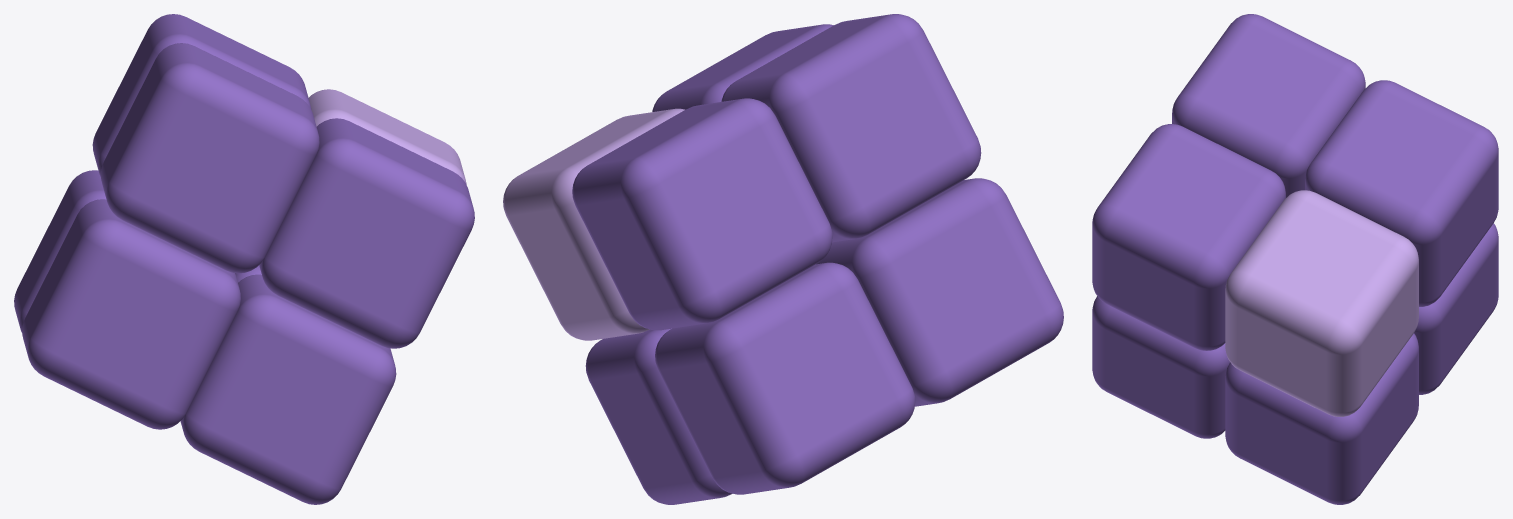
Rendered from Rubiks Cube.gltf.
The picture shows the model from 3 angles, left to right: view 1: azimuth 30°, elevation 25°; view 2: azimuth 150°, elevation 25°; view 3: azimuth 270°, elevation 25°; orthographic projection. The views are drawn at different scales.
Visible parts, largest first — view 1: Cube 5 (×4), Cube 4 (×3); view 2: Cube 4 (×4), Cube 5 (×3); view 3: Cube 4 (×4), Cube 5 (×3).
Boxes of the visible parts, left/top/right/bottom form: Cube 5 (×4): left=22, top=43, right=474, bottom=504; Cube 4 (×3): left=14, top=14, right=466, bottom=332; Cube 4 (×4): left=503, top=98, right=915, bottom=504; Cube 5 (×3): left=652, top=14, right=1063, bottom=406; Cube 4 (×4): left=1225, top=80, right=1498, bottom=504; Cube 5 (×3): left=1092, top=14, right=1365, bottom=438.
Bounding box in the file's own units: 1.79 × 1.67 × 1.48.
